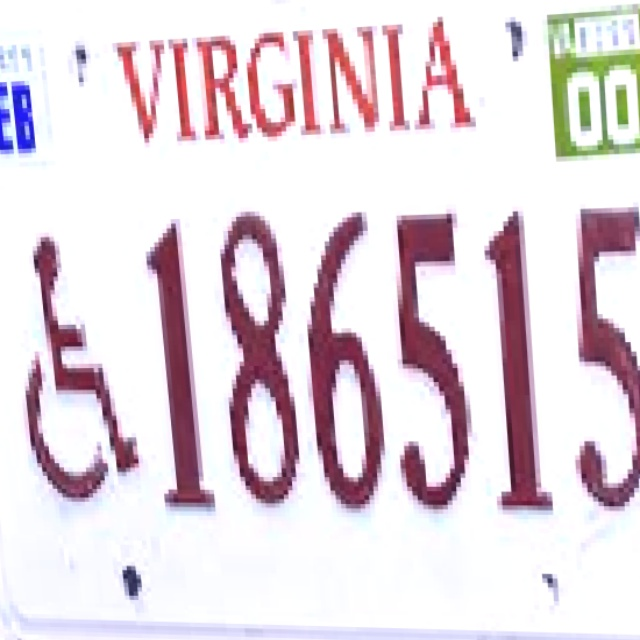ISA: (3, 218, 145, 503)
